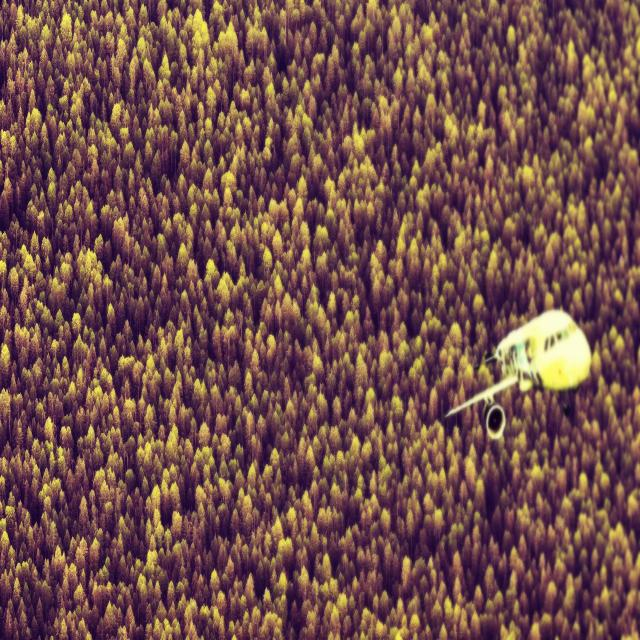airplane: (444, 307, 592, 440)
